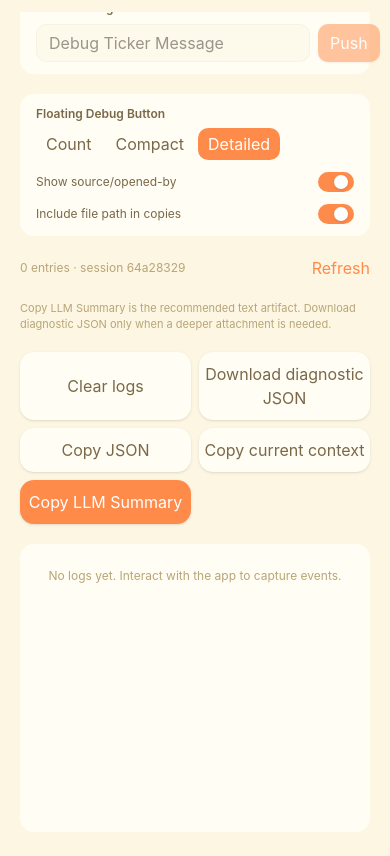
DebugPanel › downloads JSON when fallback clipboard copy reports failure
(page scrolled)
Click the button "Copy JSON" at (106, 450), box left=20, top=428, right=191, bottom=472
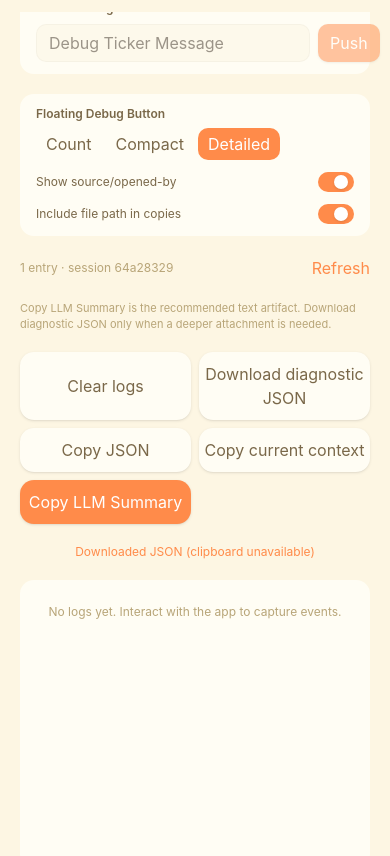
Expected: the message shows "Downloaded JSON", left=75, top=544, right=315, bottom=559
